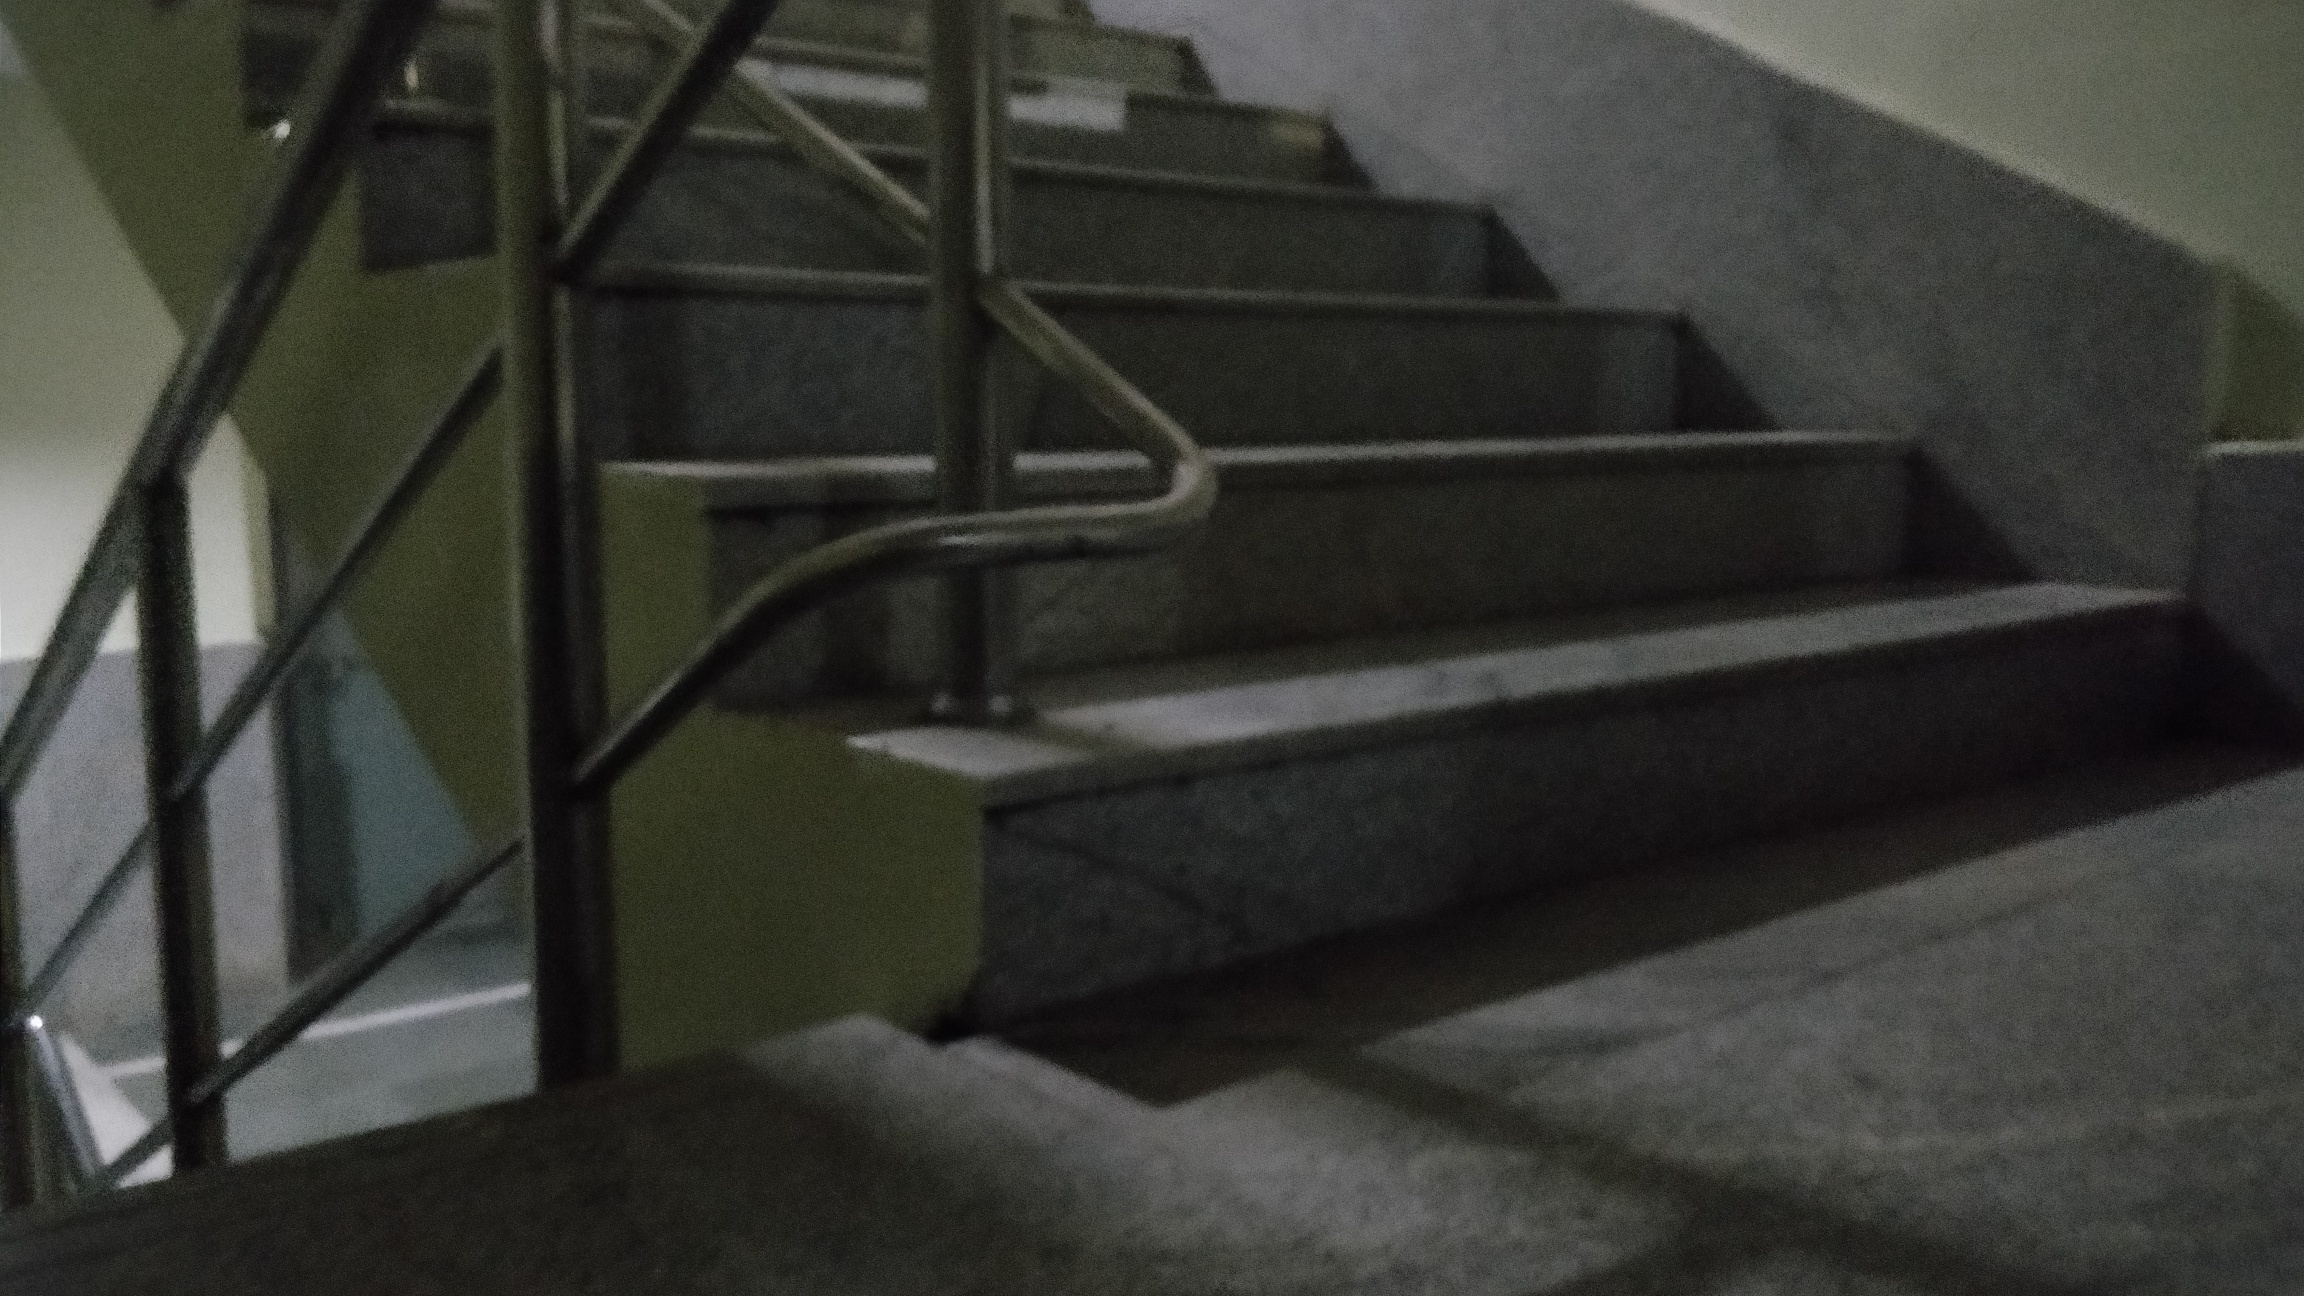stairs_up: (468, 14, 2146, 853)
